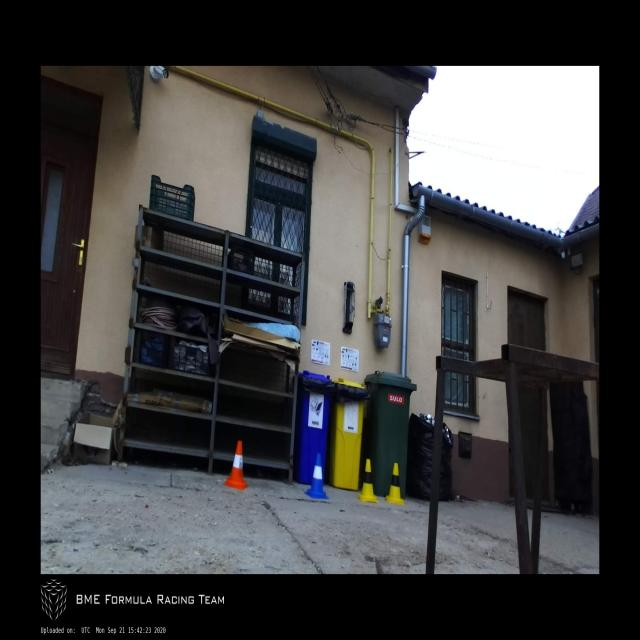blue_cone: (305, 455, 328, 499)
orange_cone: (224, 441, 248, 490)
yellow_cone: (357, 459, 378, 503), (385, 463, 404, 505)
